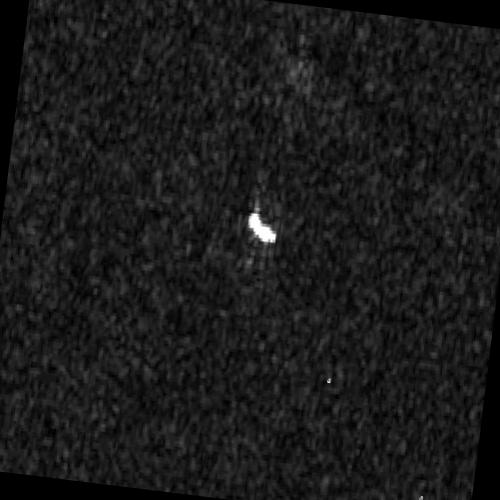ship: (248, 212, 277, 245)
